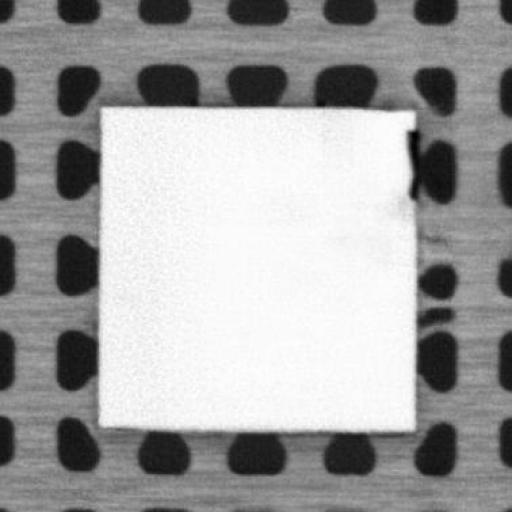DIE_BROKEN: (401, 122, 418, 200)
